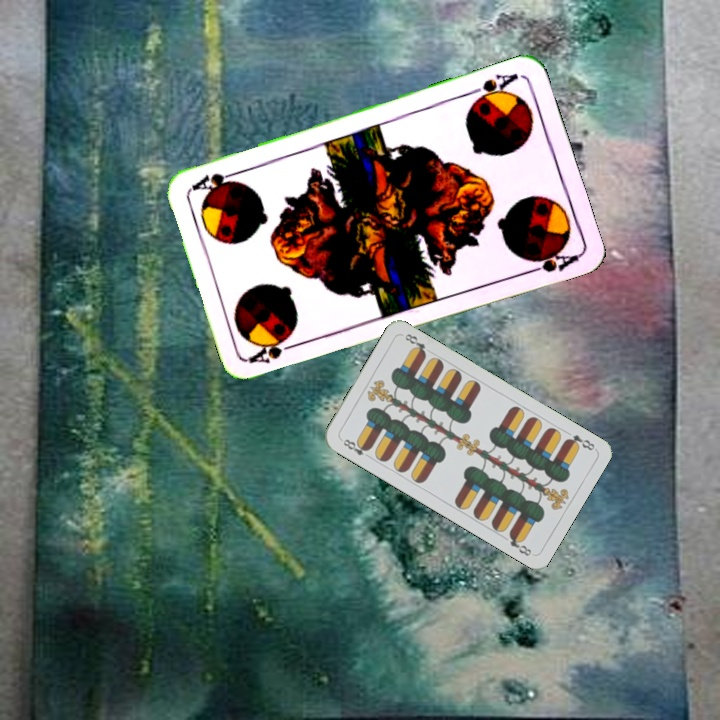E8: (337, 435, 373, 461), (562, 430, 597, 453)
SA: (464, 69, 521, 107), (246, 334, 304, 367)
